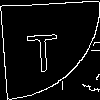T: (25, 25, 60, 73)
